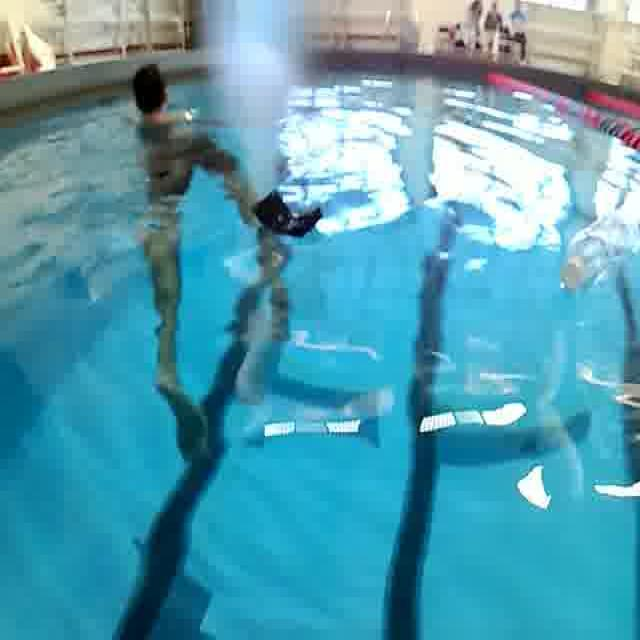Bottle: (548, 202, 638, 302)
CamMount: (246, 184, 330, 248)
